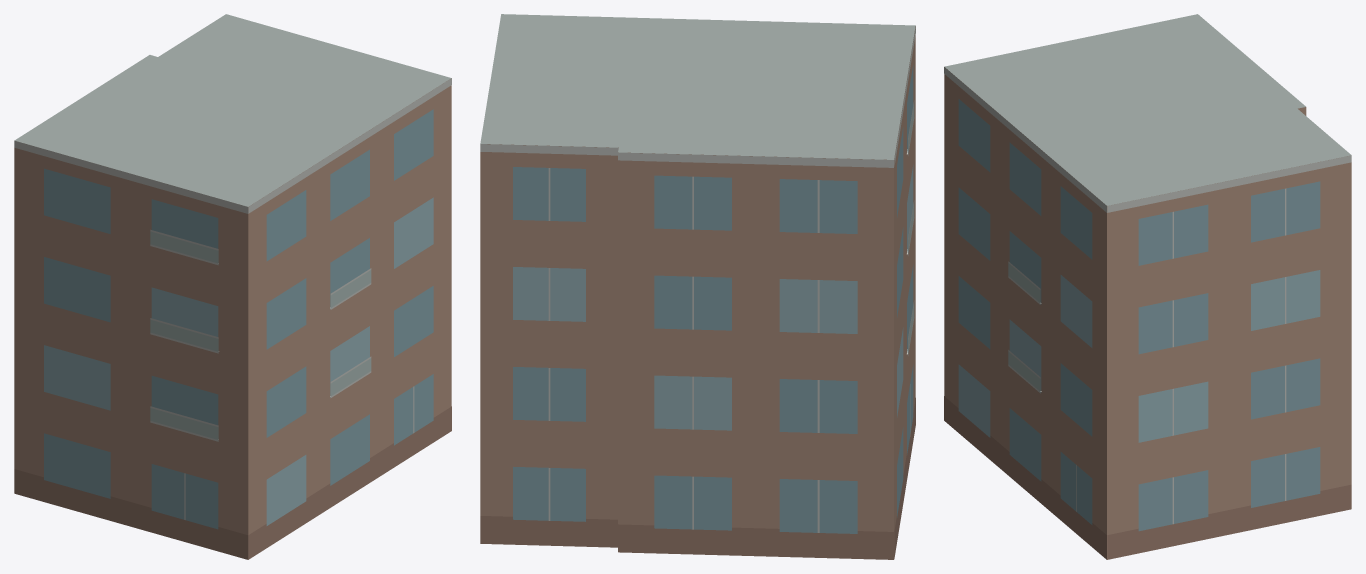
The model's file is survey-upis-32944622.glb.
3 renders of one model, left to right at view 1: azimuth 30°, elevation 25°; view 2: azimuth 150°, elevation 25°; view 3: azimuth 270°, elevation 25°, orthographic. The views are drawn at different scales.
Visible parts, largest first — view 1: survey-upis-32944622.tmp; view 2: survey-upis-32944622.tmp; view 3: survey-upis-32944622.tmp.
Boxes of the visible parts, box(x1,y1,x2,y2) form: survey-upis-32944622.tmp: box(14, 14, 451, 559); survey-upis-32944622.tmp: box(480, 14, 915, 559); survey-upis-32944622.tmp: box(944, 14, 1351, 559).
Bounding box in the file's own units: 14.19 × 12.2 × 12.74.
